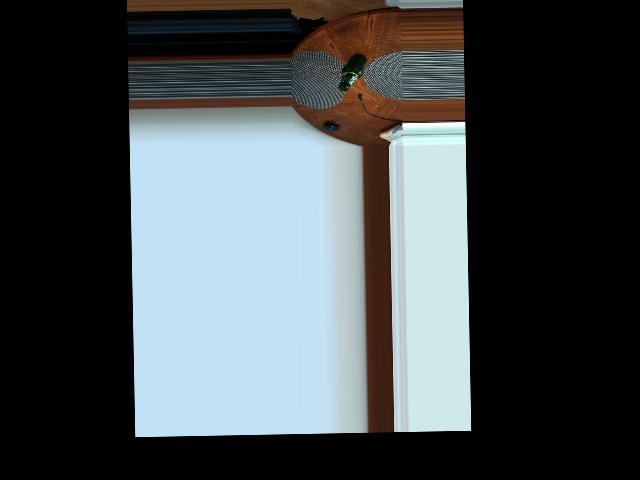beer: (337, 53, 369, 91)
